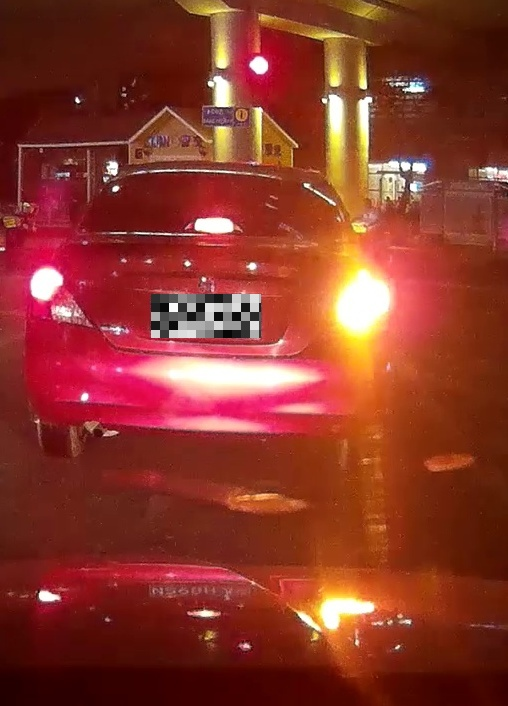L_light: (28, 267, 93, 328)
R_light: (315, 276, 380, 334)
T_light: (185, 217, 242, 232)
night-right: (24, 159, 382, 466)
plate_1: (151, 294, 261, 338)
